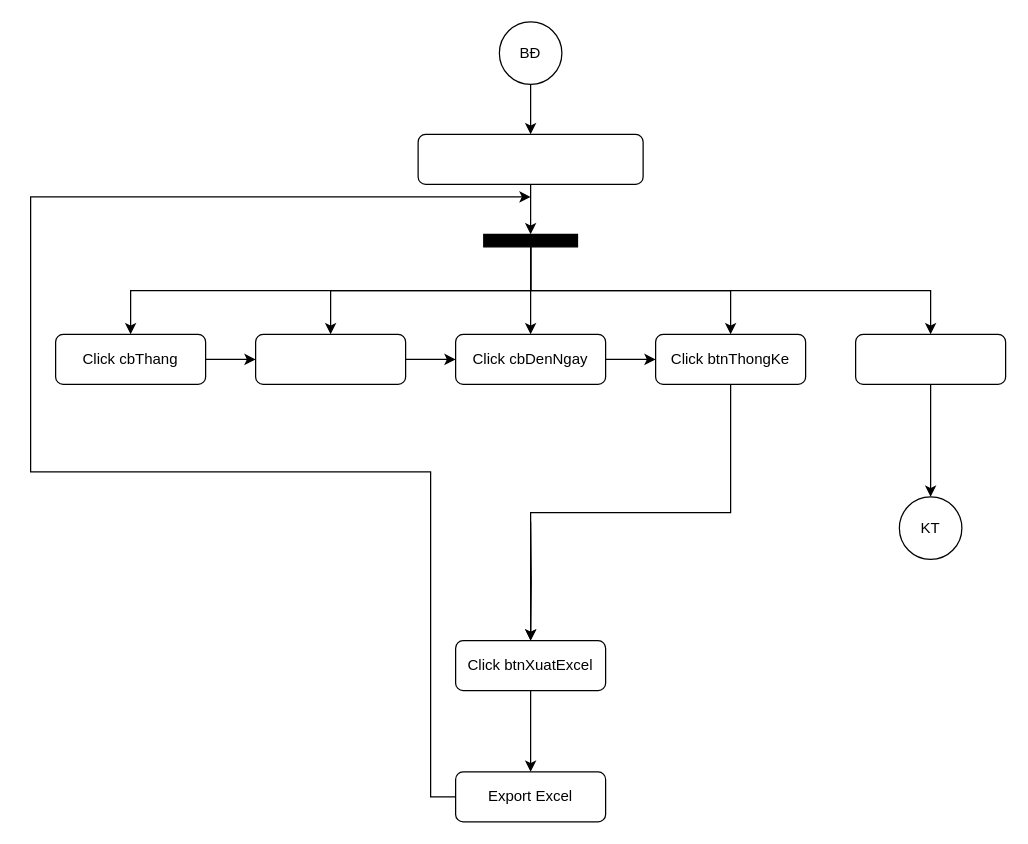
Image size: 1028x844. Some labels were removed from this diagram. The centre of each missing label's shape, as x and y in pixels:
"Click cbTuNgay" goes at point 330,358.
"Click QuayLai" goes at point 930,358.
"Do View ThongKeDKAC" goes at point 530,158.
